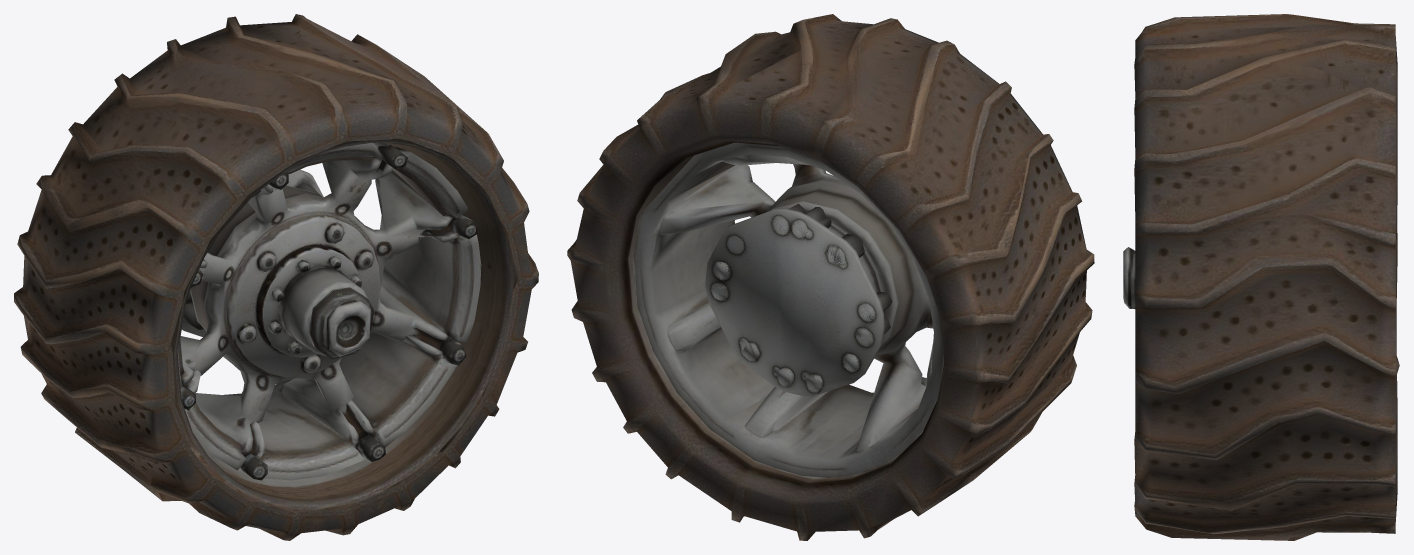
The model's file is 019ead4c-80ea-76e7-bea5-c95a18fcfe47.glb.
The picture shows the model from 3 angles, left to right: view 1: azimuth 30°, elevation 25°; view 2: azimuth 150°, elevation 25°; view 3: azimuth 270°, elevation 25°; orthographic projection. The views are drawn at different scales.
Parts seen in each view (by area): view 1: tripo_node_4edbffb5-a137-473b-a852-59d9cddaf827; view 2: tripo_node_4edbffb5-a137-473b-a852-59d9cddaf827; view 3: tripo_node_4edbffb5-a137-473b-a852-59d9cddaf827.
Part boxes in pixels (box(x1,y1,x2,y2)): tripo_node_4edbffb5-a137-473b-a852-59d9cddaf827: box(14, 14, 538, 540); tripo_node_4edbffb5-a137-473b-a852-59d9cddaf827: box(567, 14, 1094, 540); tripo_node_4edbffb5-a137-473b-a852-59d9cddaf827: box(1123, 14, 1399, 540).
Bounding box in the file's own units: 0.998 × 0.998 × 0.5332.
Materials: 1 (1 with a texture image).
